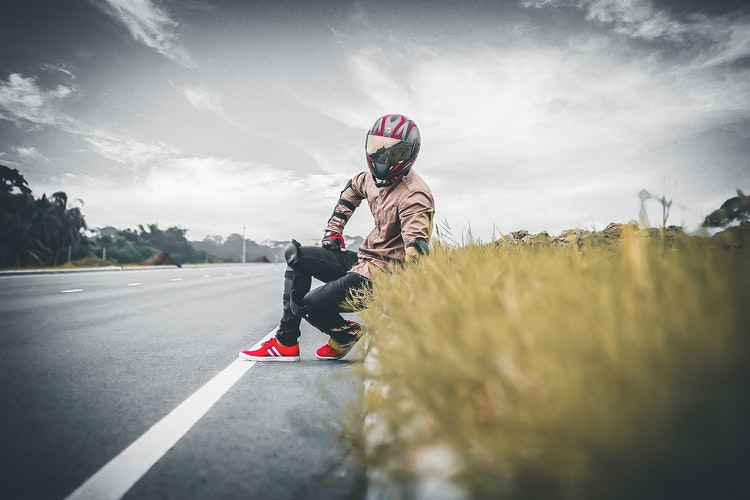helmet: (362, 110, 426, 190)
